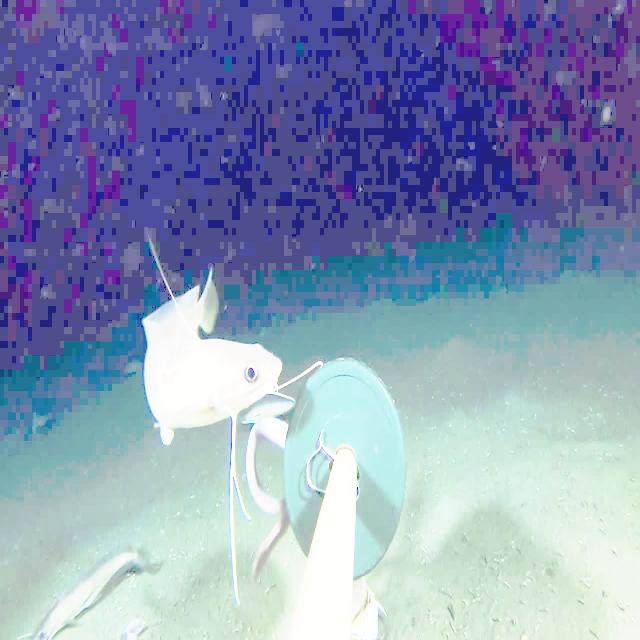eel: (240, 385, 292, 586)
fish: (138, 279, 284, 450), (16, 522, 160, 639), (333, 561, 403, 640), (111, 600, 151, 640)
pole: (286, 352, 414, 580)
